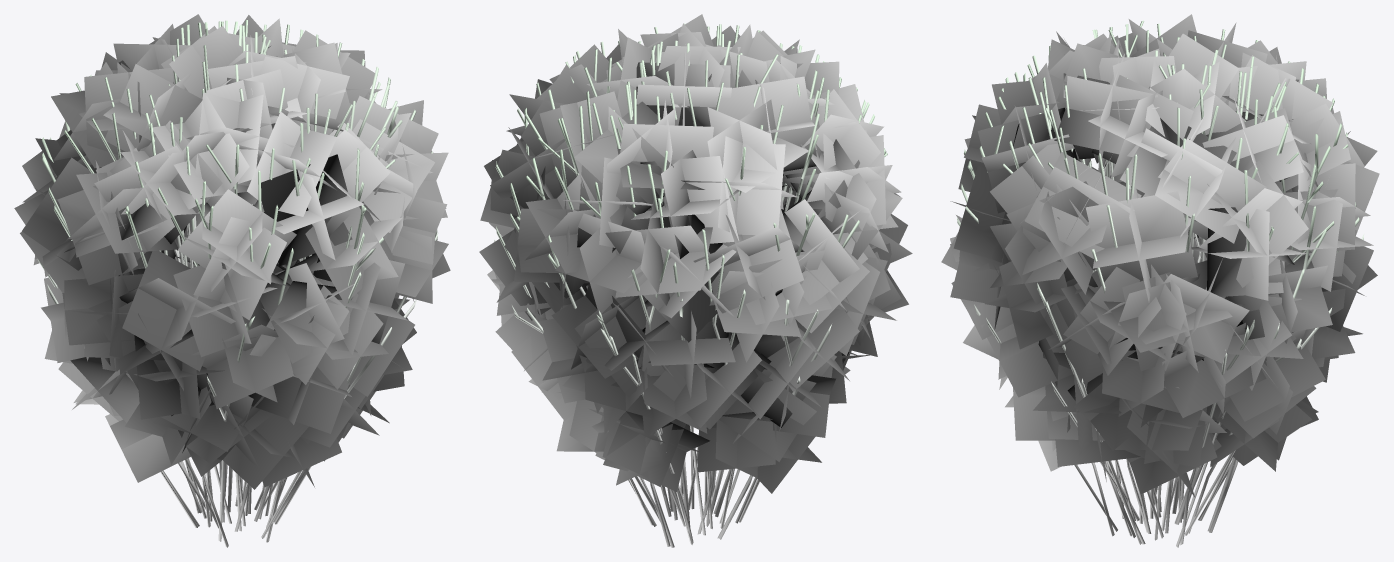
File: IL3DN_Shrub_Round_03.FBX
The picture shows the model from 3 angles, left to right: view 1: azimuth 30°, elevation 25°; view 2: azimuth 150°, elevation 25°; view 3: azimuth 270°, elevation 25°; orthographic projection.
Parts seen in each view (by area): view 1: IL3DN_Shrub_Round_03_Leaves_LOD0, IL3DN_Shrub_Round_03_Branch_LOD0; view 2: IL3DN_Shrub_Round_03_Leaves_LOD0, IL3DN_Shrub_Round_03_Branch_LOD0; view 3: IL3DN_Shrub_Round_03_Leaves_LOD0, IL3DN_Shrub_Round_03_Branch_LOD0.
Boxes of the visible parts, x1,y1,x2,y2 form: IL3DN_Shrub_Round_03_Leaves_LOD0: (14,14,450,489); IL3DN_Shrub_Round_03_Branch_LOD0: (37,20,438,547); IL3DN_Shrub_Round_03_Leaves_LOD0: (479,14,912,493); IL3DN_Shrub_Round_03_Branch_LOD0: (494,23,887,547); IL3DN_Shrub_Round_03_Leaves_LOD0: (941,14,1379,497); IL3DN_Shrub_Round_03_Branch_LOD0: (957,20,1364,547).
Size of the model in its own units: 183 by 228 by 182.
